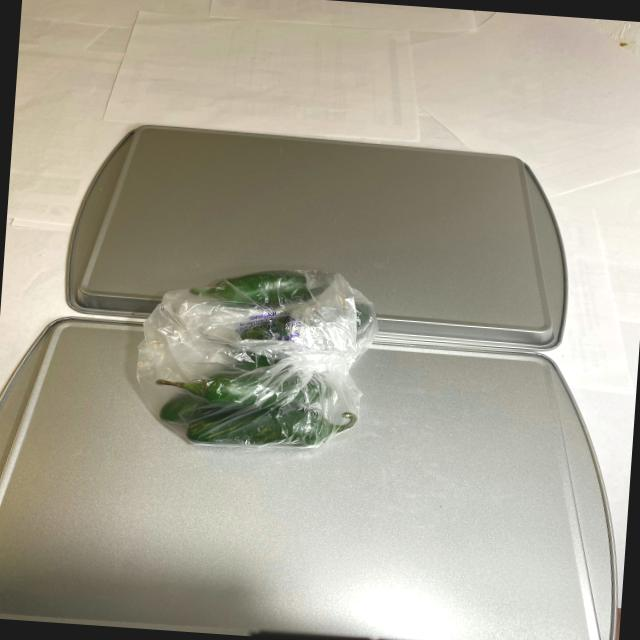chilli: (149, 256, 378, 465)
